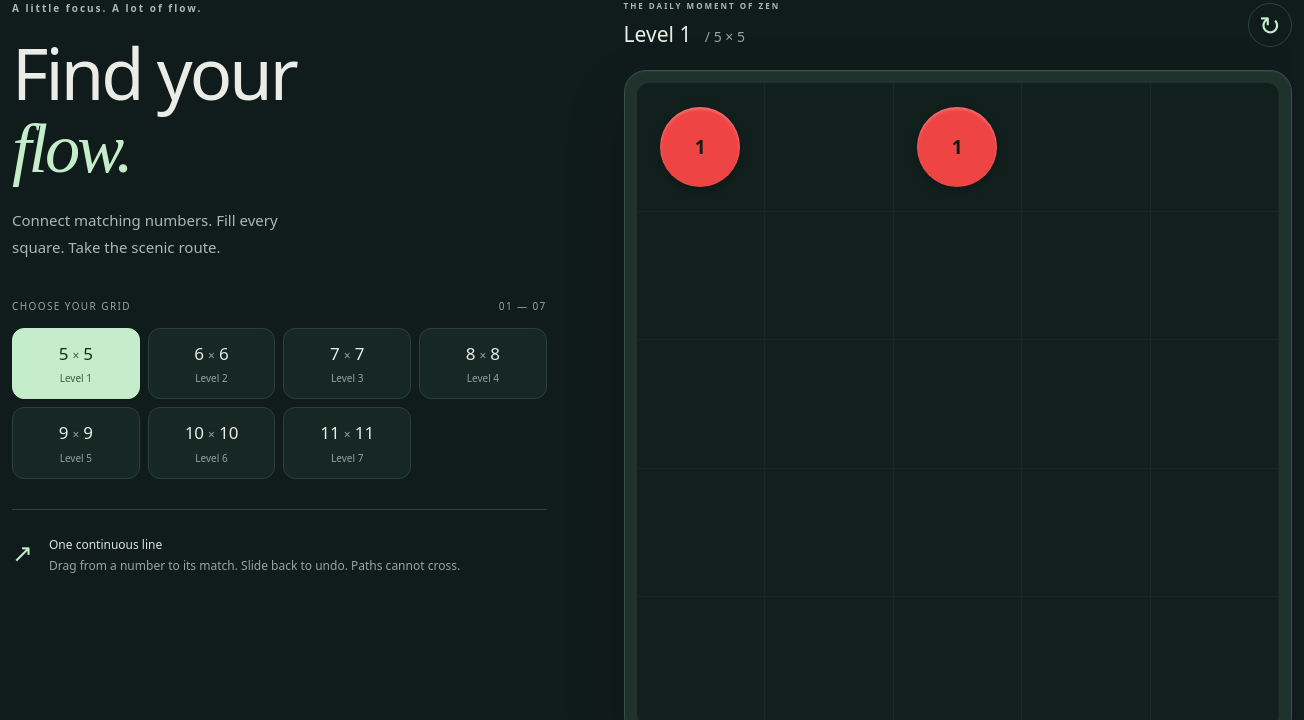
Test: FlowGame pointer interaction › initializes once and draws a touch path using captured movement
Press the mouse on the 1st element showing "1" at (701, 148), box [636,83,765,212]
(page scrolled)
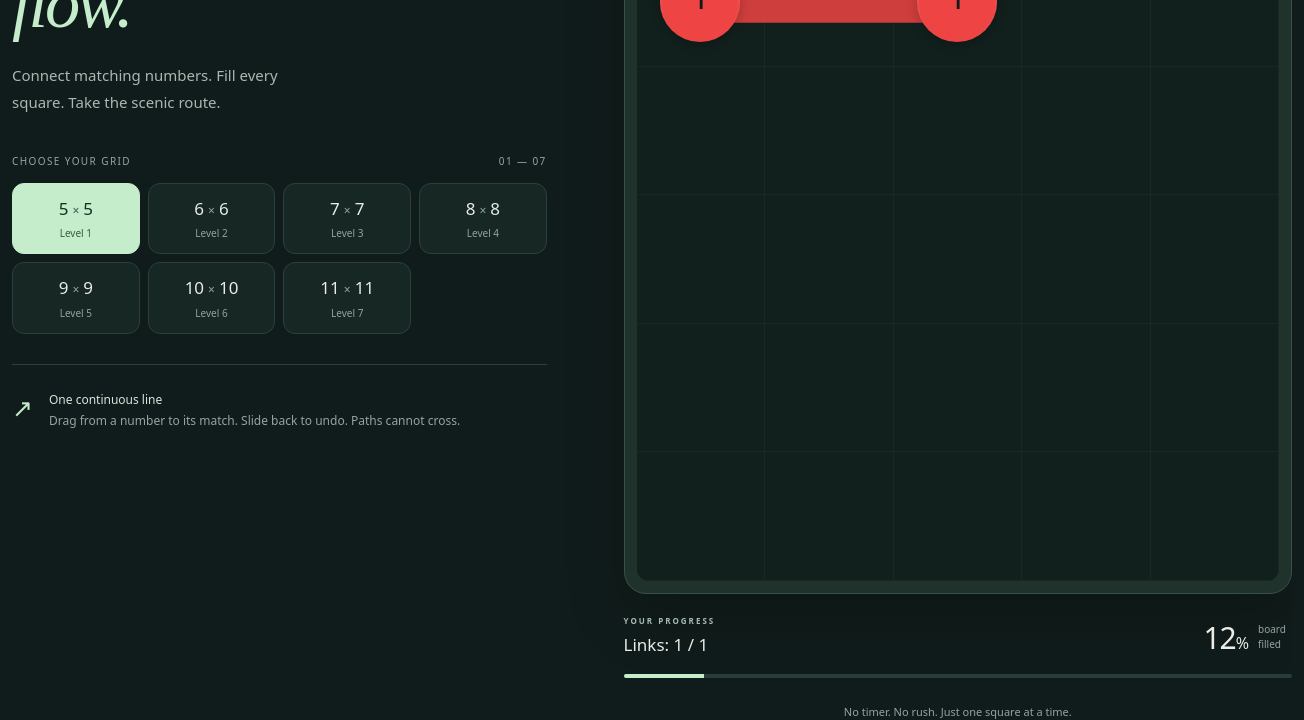
expect the text "Links: 1 / 1" is shown: met, box [624,632,708,656]
